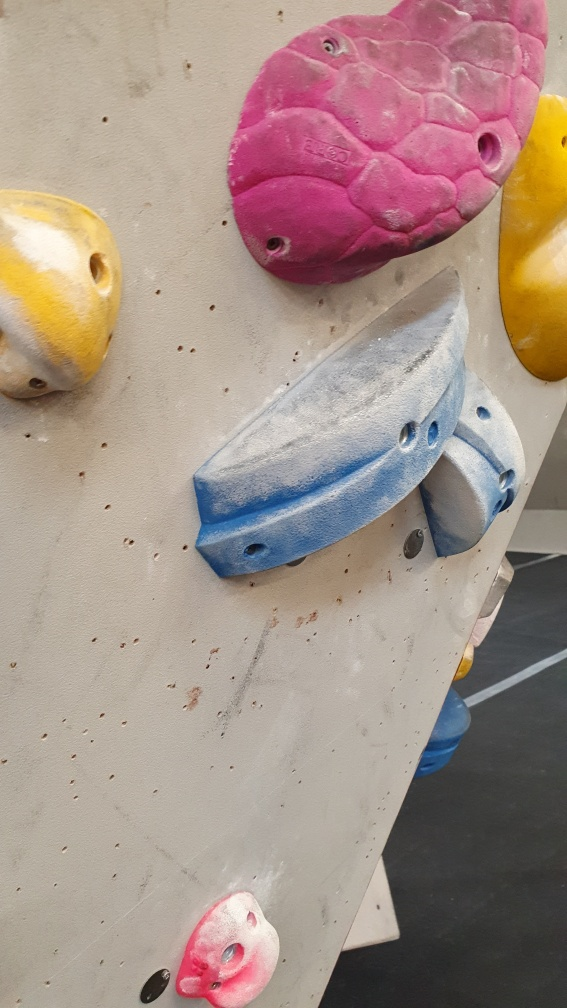Hand Start: (138, 968, 172, 1004), (401, 528, 427, 562)
Jug: (178, 890, 283, 1005)
Pinch: (191, 264, 472, 578), (419, 365, 526, 557), (420, 684, 475, 775)
